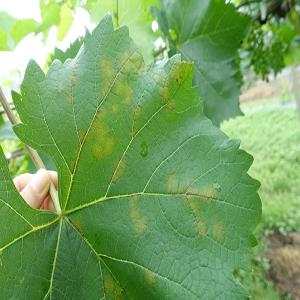Folha: (1, 10, 262, 299)
Fungo: (179, 186, 219, 240), (83, 110, 113, 158), (128, 195, 148, 237), (173, 54, 192, 86), (96, 273, 120, 297), (114, 81, 136, 107), (99, 54, 113, 92), (162, 169, 181, 197), (48, 178, 62, 215), (212, 218, 226, 244), (118, 50, 131, 74), (158, 74, 171, 98), (134, 56, 146, 77), (144, 268, 156, 284), (132, 104, 146, 117), (166, 98, 176, 114), (109, 100, 119, 114), (129, 124, 139, 138), (140, 141, 148, 157), (67, 74, 76, 88), (69, 58, 77, 72), (150, 72, 159, 84), (66, 92, 74, 105), (56, 80, 64, 92), (19, 275, 26, 284)
